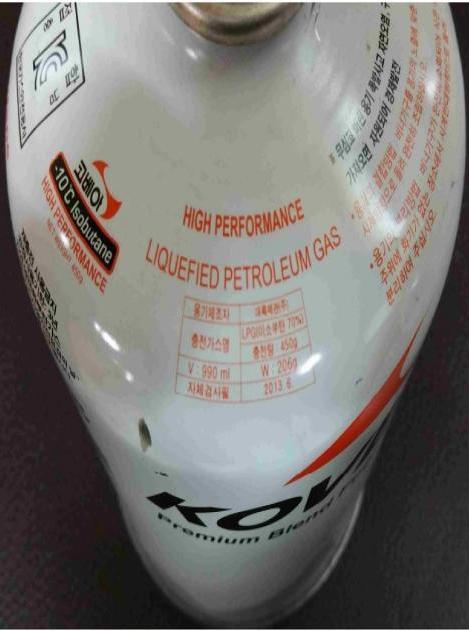cylinder: (1, 0, 469, 631)
